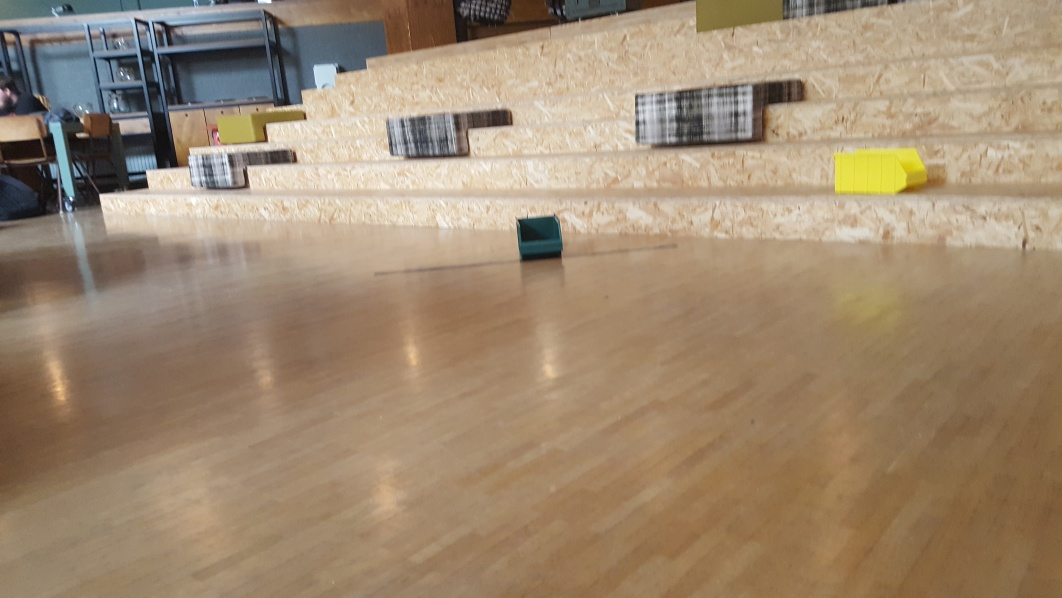tray: (830, 146, 928, 197), (508, 214, 569, 258)
